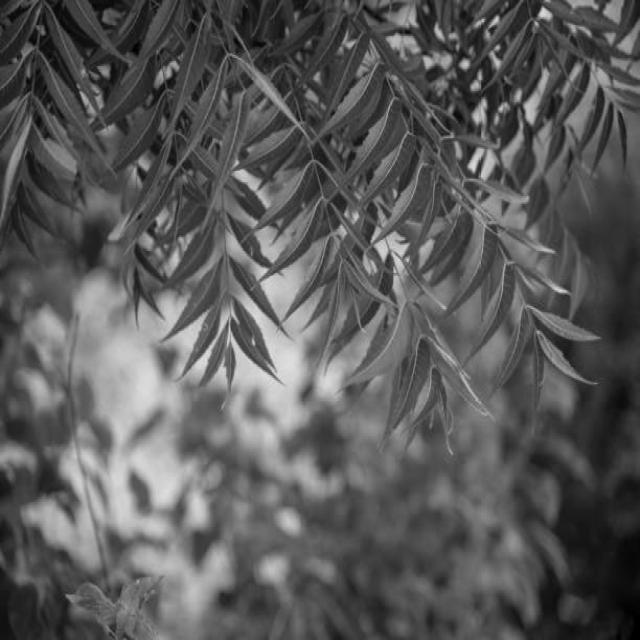Neem-Tree: (128, 7, 594, 375)
